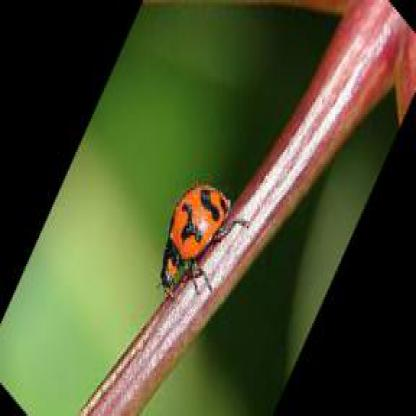uroleucon compositae: (163, 185, 232, 293)
